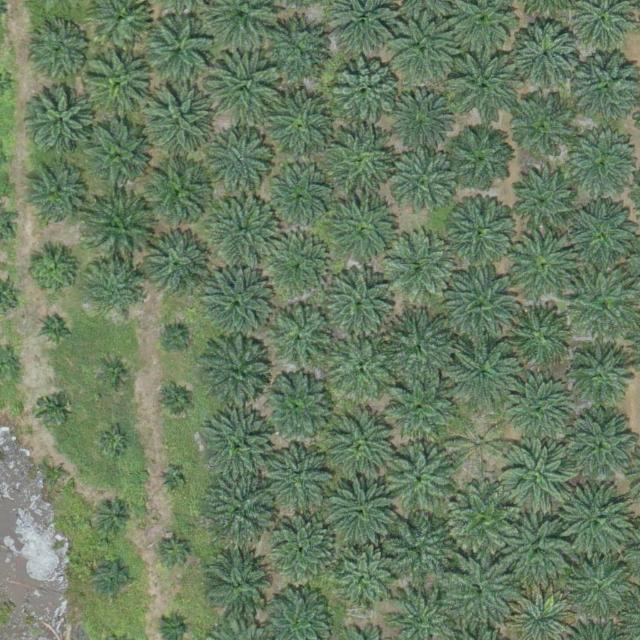Kelapa_Sawit: (320, 124, 398, 202), (326, 193, 404, 271), (138, 79, 216, 157), (205, 46, 283, 124), (316, 261, 394, 339), (210, 195, 280, 266), (142, 160, 212, 231), (85, 195, 155, 266), (82, 122, 152, 193), (84, 49, 154, 120), (383, 230, 453, 301), (446, 267, 516, 338), (505, 378, 575, 449), (506, 229, 576, 300), (565, 410, 635, 481), (387, 18, 457, 88), (511, 23, 581, 93), (140, 14, 210, 84), (506, 96, 576, 166), (566, 134, 636, 204), (568, 198, 638, 268), (512, 166, 582, 236), (445, 195, 515, 265), (449, 54, 519, 124), (384, 82, 454, 152), (389, 150, 459, 220), (330, 56, 400, 126), (265, 90, 335, 160), (558, 483, 628, 553), (565, 552, 635, 622), (139, 229, 209, 299), (202, 270, 272, 340), (202, 340, 272, 410), (204, 410, 274, 480), (204, 474, 274, 544), (204, 545, 274, 615), (263, 371, 333, 441), (267, 299, 337, 369), (259, 229, 329, 299), (327, 330, 397, 400), (328, 407, 398, 477), (326, 474, 396, 544), (381, 513, 451, 583), (386, 445, 456, 515), (384, 372, 454, 442), (380, 311, 450, 381), (447, 337, 517, 407), (446, 484, 516, 554), (500, 514, 570, 584), (501, 438, 571, 508), (567, 266, 637, 336), (444, 557, 514, 627), (448, 413, 510, 476), (450, 128, 512, 191), (267, 170, 329, 233), (212, 133, 274, 196), (273, 516, 335, 579), (270, 444, 332, 507), (334, 549, 396, 612), (259, 22, 321, 84), (30, 89, 92, 151), (22, 167, 84, 229), (507, 305, 569, 367), (569, 341, 631, 403), (23, 244, 77, 299), (33, 24, 87, 79), (86, 261, 140, 316), (95, 498, 133, 537), (94, 559, 132, 598), (38, 310, 76, 349), (35, 391, 66, 422), (99, 426, 130, 457), (100, 358, 131, 389), (159, 534, 190, 565), (160, 321, 191, 352), (161, 386, 192, 417), (46, 463, 69, 486), (160, 469, 183, 492)
